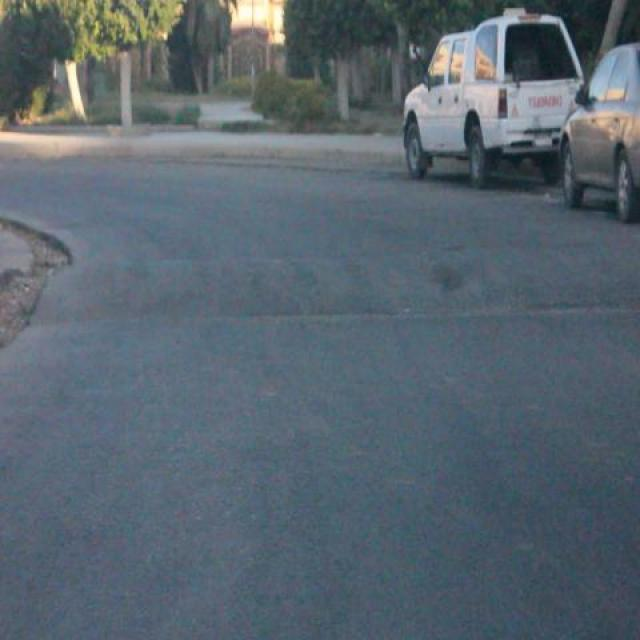Unmarked Bump: (24, 236, 639, 327)
